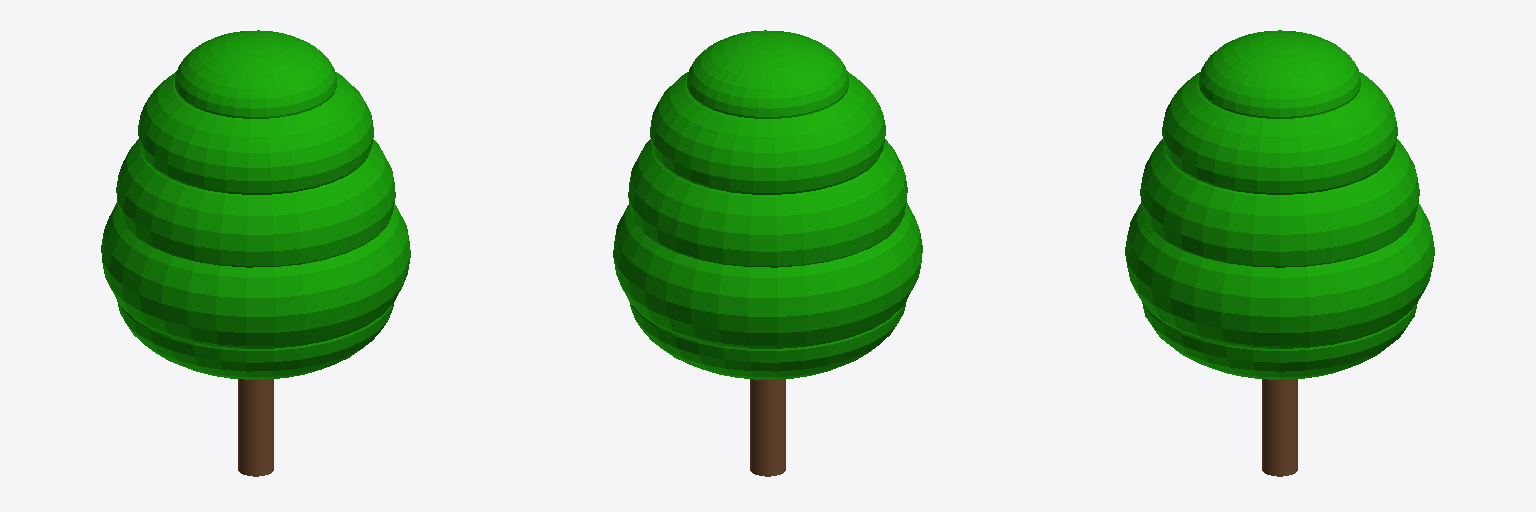
3 views of the same model, side by side, from view 1: azimuth 30°, elevation 25°; view 2: azimuth 150°, elevation 25°; view 3: azimuth 270°, elevation 25° (orthographic).
Visible parts, largest first — view 1: Sphere, Cylinder; view 2: Sphere, Cylinder; view 3: Sphere, Cylinder.
Part boxes in pixels (left/top/right/bottom): Sphere: left=101, top=30, right=410, bottom=379; Cylinder: left=238, top=379, right=273, bottom=476; Sphere: left=613, top=30, right=922, bottom=379; Cylinder: left=750, top=379, right=785, bottom=476; Sphere: left=1125, top=30, right=1434, bottom=379; Cylinder: left=1262, top=379, right=1297, bottom=476.
Size of the model in its own units: 32.8 by 49.6 by 32.8.
Materials: 2 (2 with a texture image).